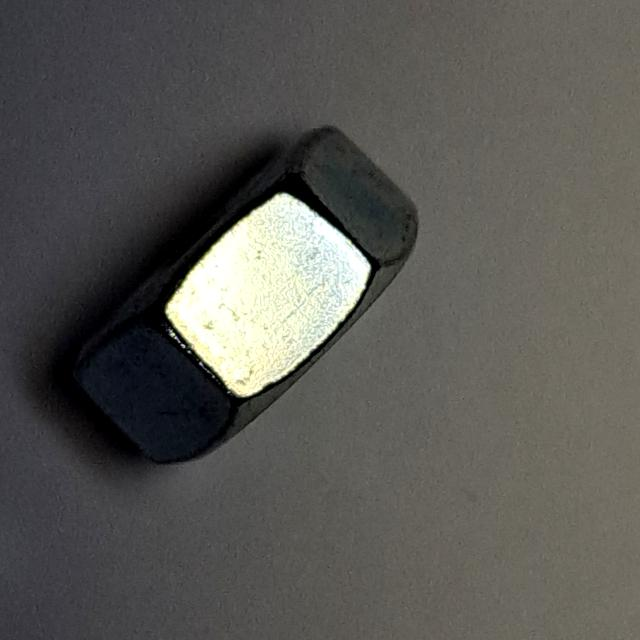Side_Excellent: (47, 111, 440, 477)
